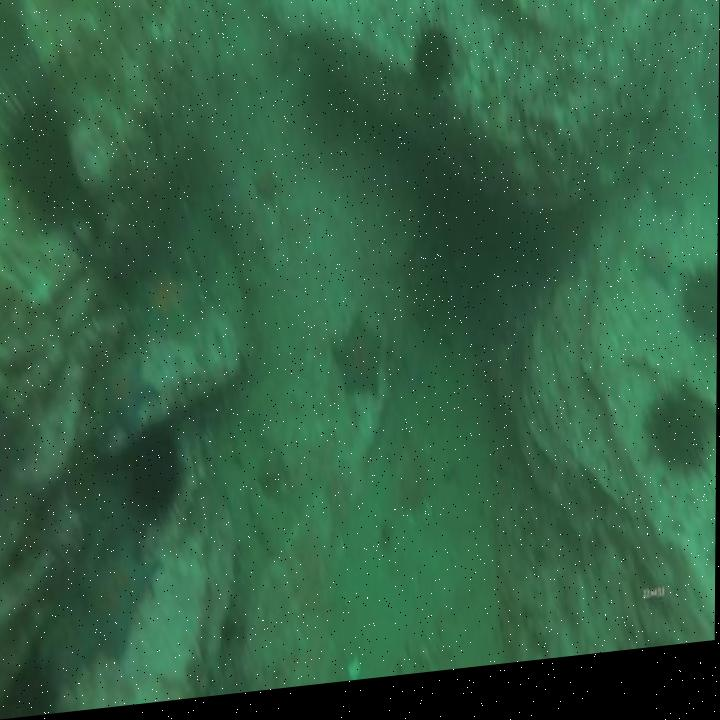echinus: (9, 91, 79, 243), (641, 382, 710, 503), (127, 412, 185, 524), (305, 72, 353, 162), (411, 22, 456, 112), (0, 653, 59, 720), (679, 275, 718, 358)
starfish: (83, 528, 162, 670), (119, 250, 212, 363), (85, 345, 160, 470), (328, 316, 390, 423), (43, 595, 104, 702), (639, 250, 683, 317), (645, 176, 691, 237), (248, 165, 285, 218)
